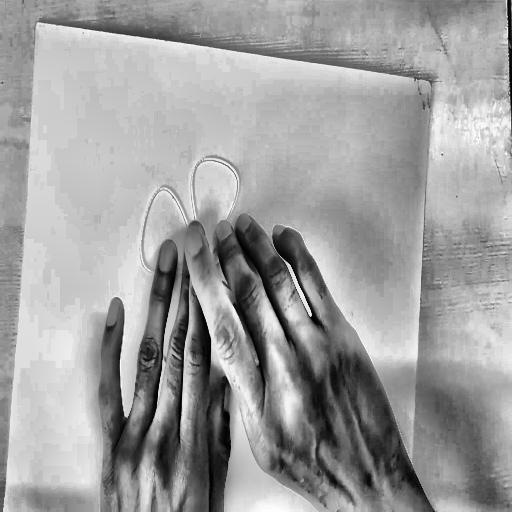flower: (119, 138, 294, 512)
top_left: (34, 17, 41, 29)
top_right: (427, 76, 435, 89)
